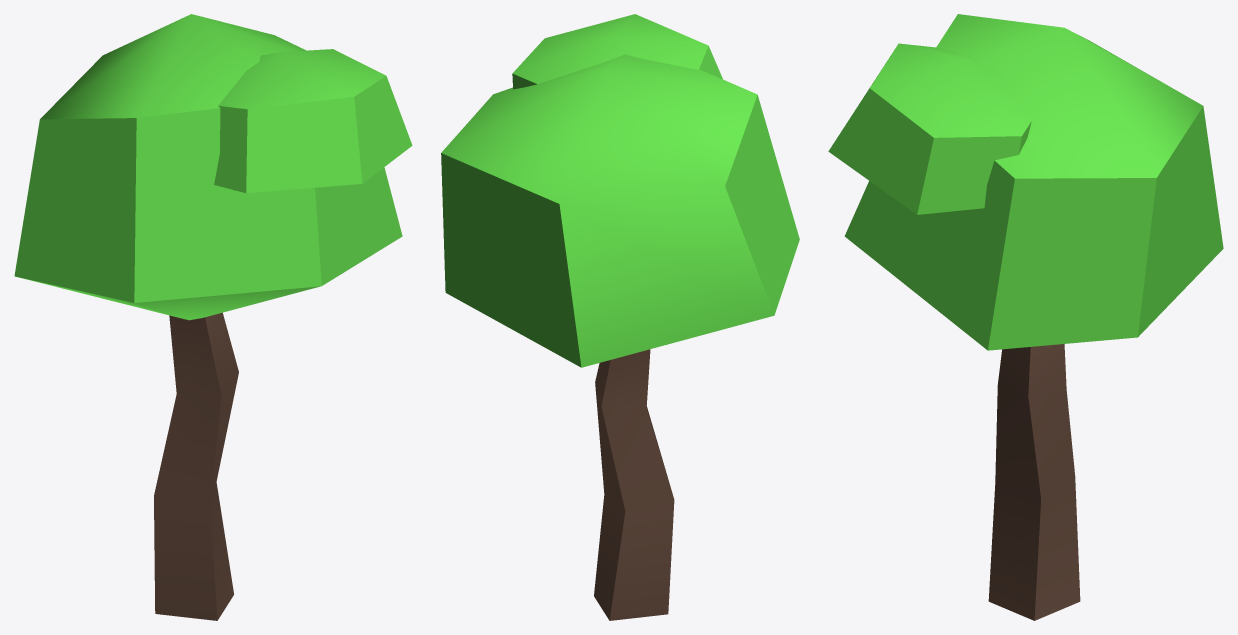
Rendered from Tree_Verdant_0.FBX.
3 renders of one model, left to right at view 1: azimuth 30°, elevation 25°; view 2: azimuth 150°, elevation 25°; view 3: azimuth 270°, elevation 25°, orthographic. The views are drawn at different scales.
Visible parts, largest first — view 1: Cylinder003; view 2: Cylinder003; view 3: Cylinder003.
Part boxes in pixels (x1,y1,x2,y2): Cylinder003: (14,14,412,620); Cylinder003: (441,14,799,620); Cylinder003: (828,14,1223,620).
Size of the model in its own units: 185 by 291 by 180.
